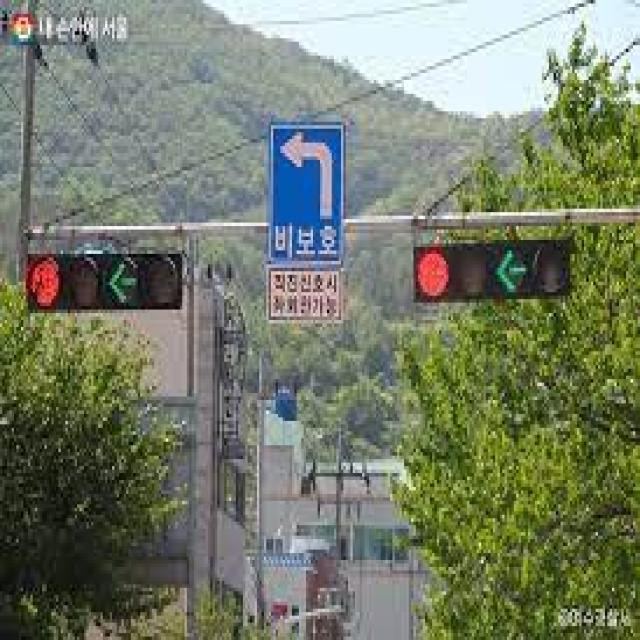Red Light: (22, 253, 67, 311), (411, 245, 453, 304)
